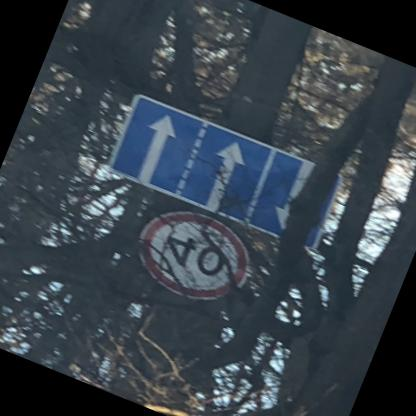speedlimit: (122, 198, 255, 314)
